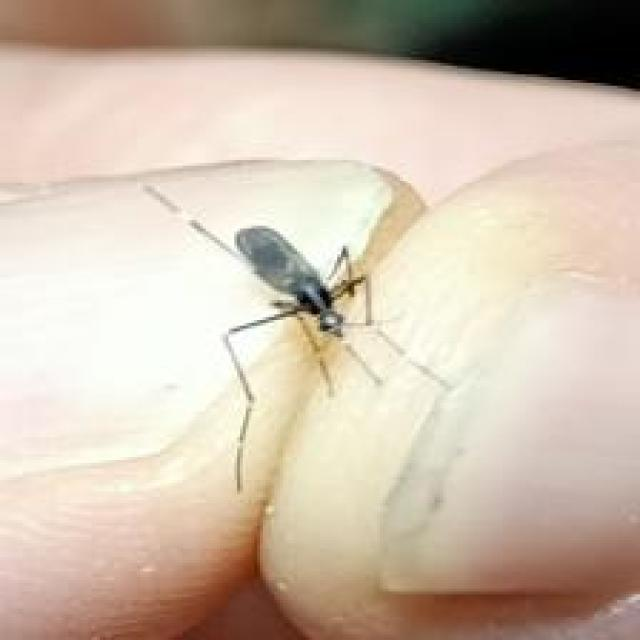Aedes albopictus: (140, 177, 451, 494)
